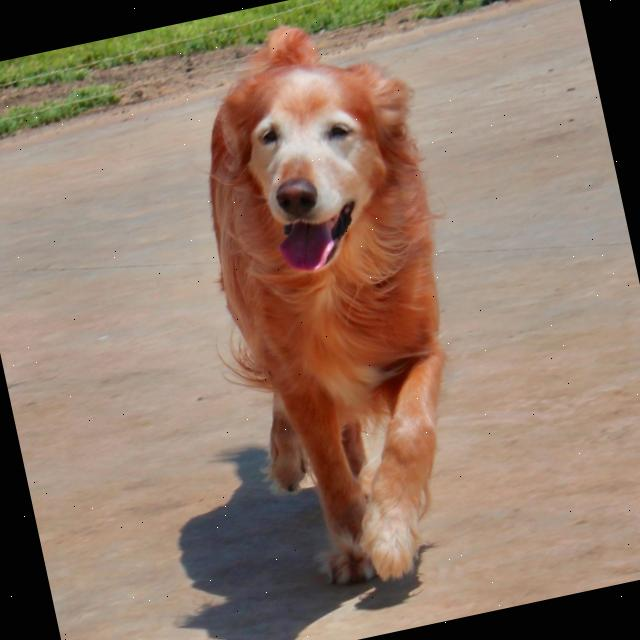golden_retriever_dog: (175, 26, 457, 316)
